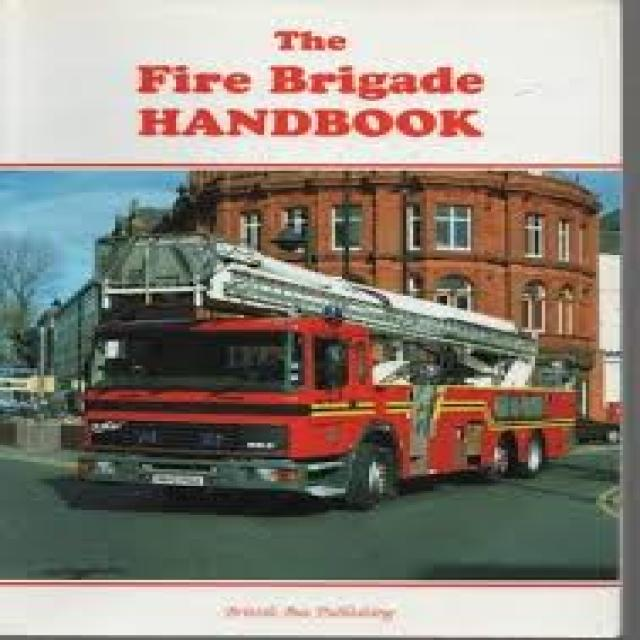Fire_brigade: (75, 241, 579, 522)
